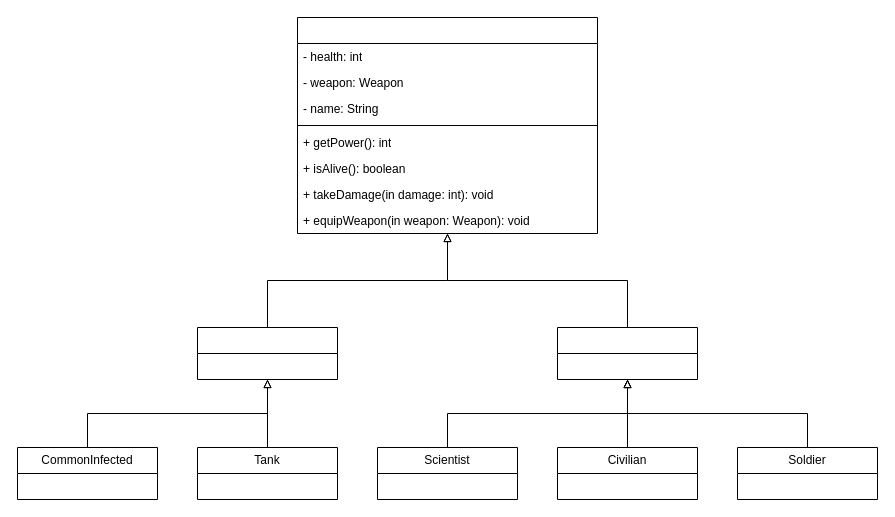
The diagram is 895 pixels wide and 517 high, and some of its shapes have lost their labels. The box of each missing label's shape, as (x1, y1, x2, y2) in pixels:
Player: (296, 16, 598, 234)
Survivor: (556, 326, 698, 380)
Zombie: (196, 326, 338, 380)
